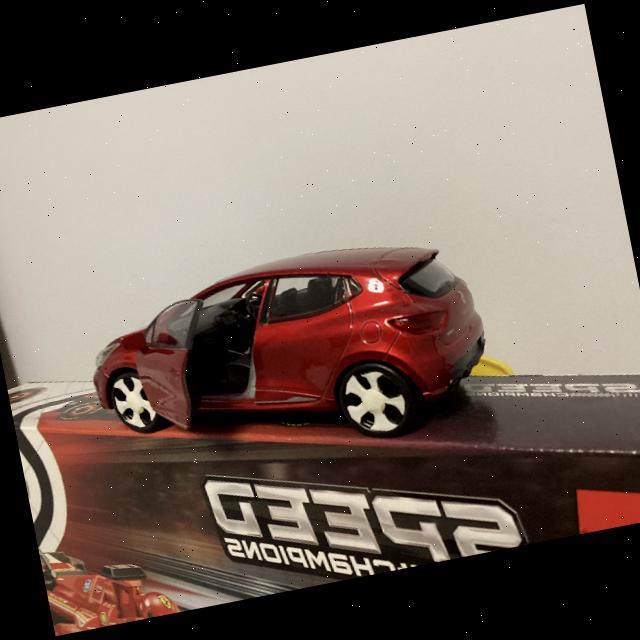Yanlis_Jant: (340, 366, 409, 436), (108, 371, 156, 432)
